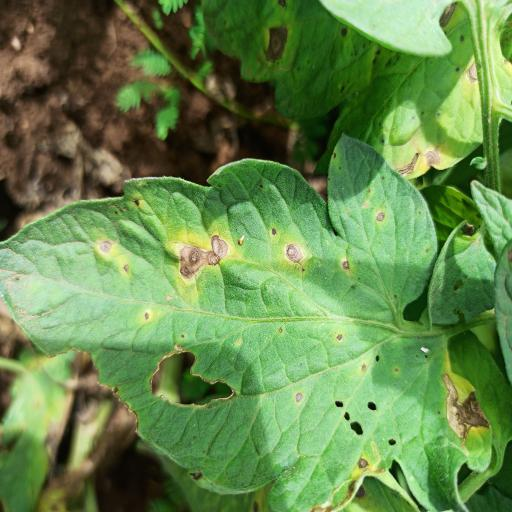Early Blight: (0, 134, 491, 508)
